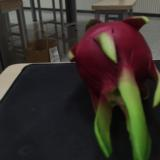pitaya: (69, 16, 160, 160)
